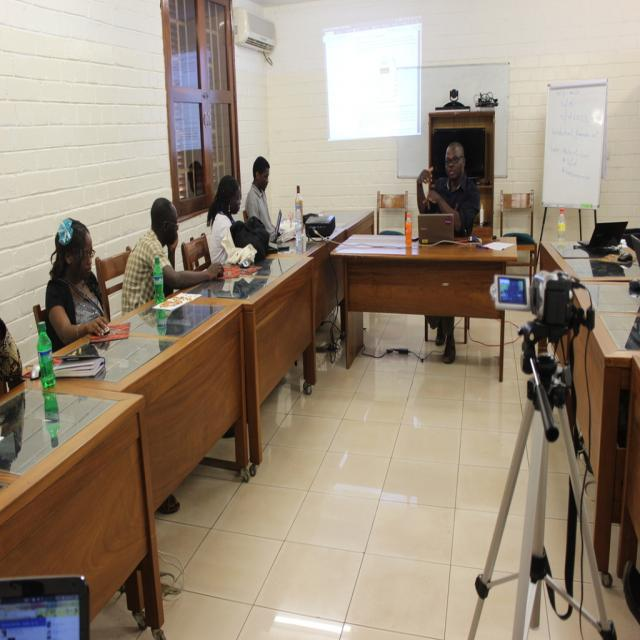chair: (496, 188, 539, 278), (93, 245, 132, 322)
desk: (34, 292, 248, 588), (0, 382, 164, 640), (309, 214, 544, 390), (213, 248, 315, 472)
laptop: (0, 575, 90, 638), (573, 219, 628, 254), (418, 212, 454, 245)
person: (419, 140, 481, 364), (119, 196, 223, 314), (45, 217, 120, 351), (207, 175, 266, 266), (244, 155, 275, 234)
tv: (431, 125, 489, 182)
